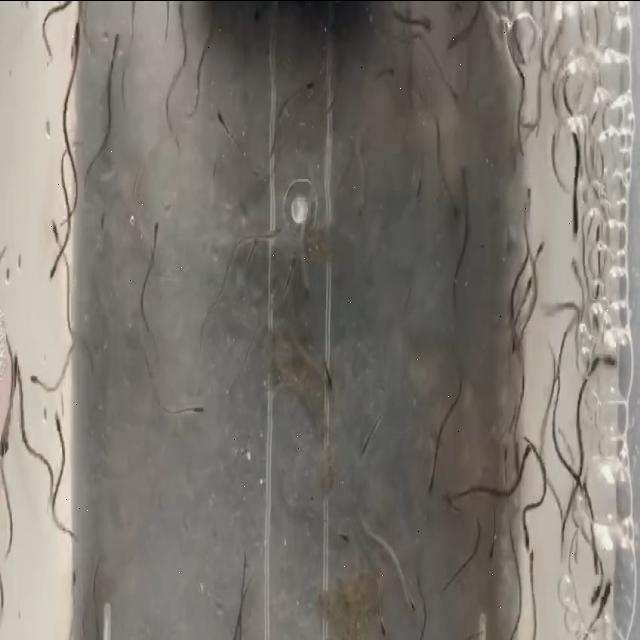active_glass_eel: (584, 561, 606, 614), (594, 571, 614, 623), (396, 572, 418, 616), (358, 418, 380, 459), (320, 352, 336, 404), (600, 342, 621, 379), (182, 392, 206, 424), (516, 178, 533, 222), (442, 70, 460, 111), (48, 217, 65, 260), (372, 600, 390, 640), (105, 21, 121, 65), (283, 242, 299, 286), (148, 213, 168, 247), (410, 164, 425, 208), (47, 250, 65, 286), (68, 17, 80, 71), (97, 191, 109, 245), (589, 222, 605, 262), (212, 106, 230, 141), (484, 528, 499, 570), (330, 522, 354, 548), (588, 532, 600, 584), (372, 58, 397, 82), (419, 468, 436, 502), (566, 256, 584, 288), (444, 25, 468, 49), (525, 532, 535, 588), (266, 212, 284, 242), (414, 10, 432, 40), (294, 74, 316, 98), (0, 434, 13, 474), (68, 564, 80, 604), (520, 523, 534, 557), (518, 274, 532, 308), (507, 320, 519, 354), (533, 228, 545, 260), (29, 371, 45, 393), (12, 344, 20, 385), (51, 409, 64, 434)
